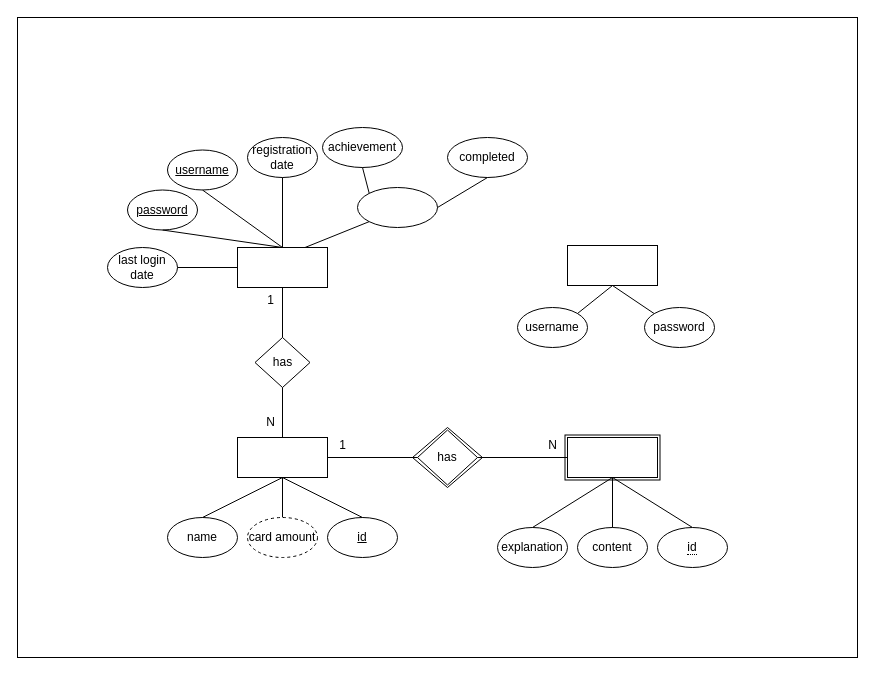
The diagram is 875 pixels wide and 675 high, and some of its shapes have lost their labels. The box of each missing label's shape, as (x1, y1, x2, y2) in pixels:
achievements: (356, 186, 438, 228)
Admin: (566, 244, 658, 286)
Card: (566, 436, 658, 478)
Deck: (236, 436, 328, 478)
User: (236, 246, 328, 288)
